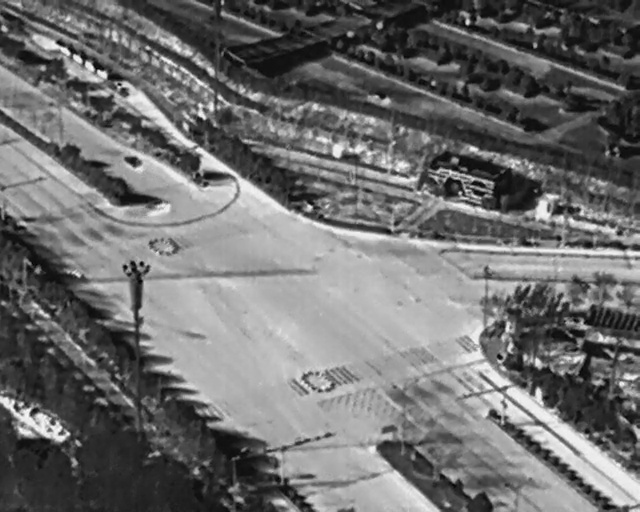Car: (120, 147, 146, 173), (147, 196, 171, 212)
